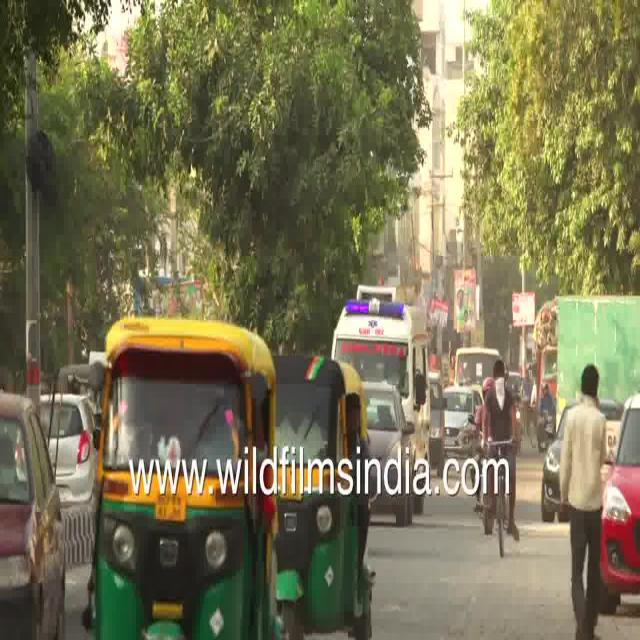ambulance: (334, 288, 438, 449)
